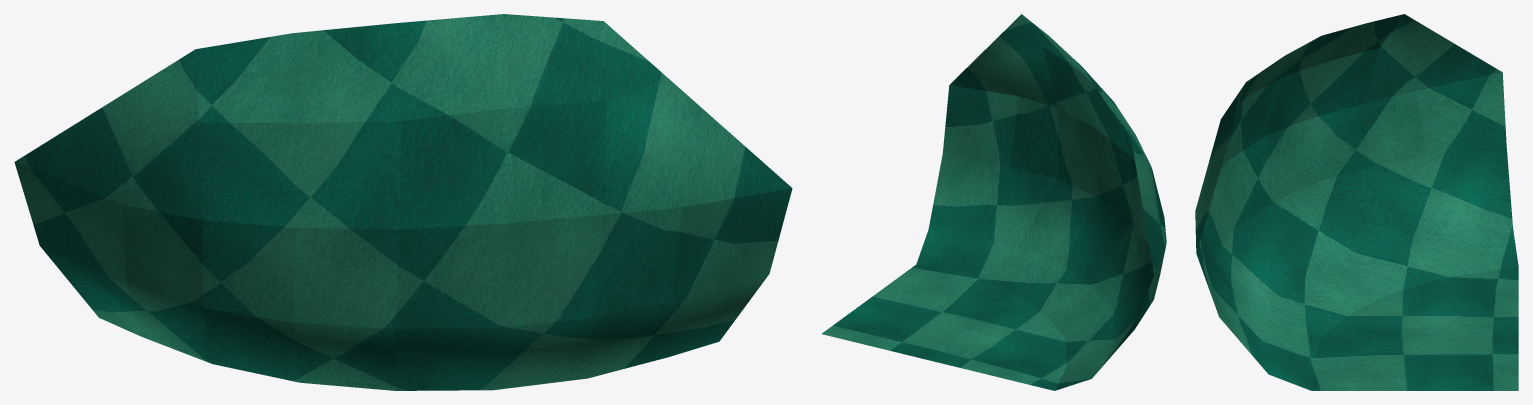
File: Concave_Curve_center.gltf
3 renders of one model, left to right at view 1: azimuth 30°, elevation 25°; view 2: azimuth 150°, elevation 25°; view 3: azimuth 270°, elevation 25°, orthographic. The views are drawn at different scales.
Visible parts, largest first — view 1: Concave_Curve_center_glb; view 2: Concave_Curve_center_glb; view 3: Concave_Curve_center_glb.
Part boxes in pixels (left/top/right/bottom): Concave_Curve_center_glb: left=14, top=14, right=792, bottom=390; Concave_Curve_center_glb: left=822, top=14, right=1166, bottom=390; Concave_Curve_center_glb: left=1195, top=14, right=1518, bottom=390.
Size of what is drawn, in the model's own units: 5.16 by 3.56 by 3.84.
Materials: 1 (1 with a texture image).
